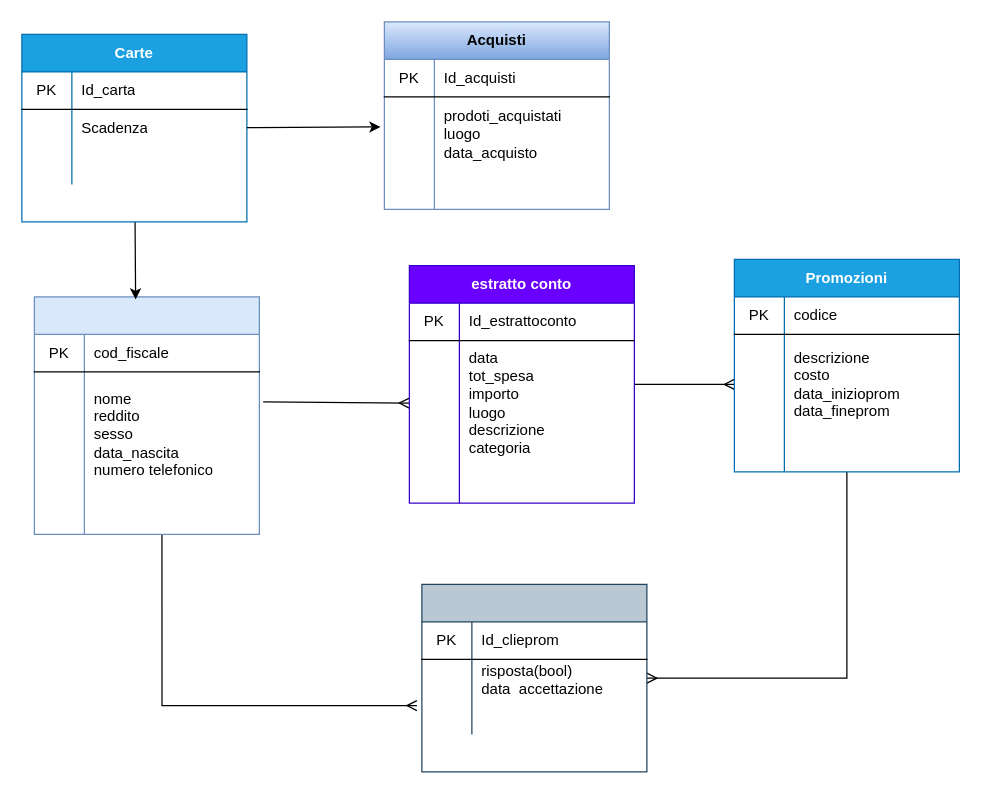
This 981x794 diagram has some shape labels left out. The box of each missing label's shape, as (x1, y1, x2, y2) in pixels:
Clienti: (33, 296, 259, 534)
clienti_promozioni: (421, 583, 647, 772)
